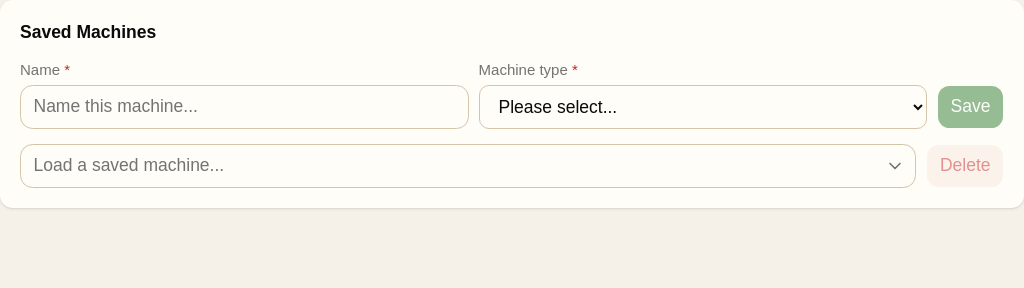
SaveLoadToolbar - delete loads first remaining or resets › shows loaded toast with remaining machine name after delete
Select Combine (index 1), then delete it
Click the text "Load a saved machine...": {"x": 129, "y": 166} [34,156,224,176]
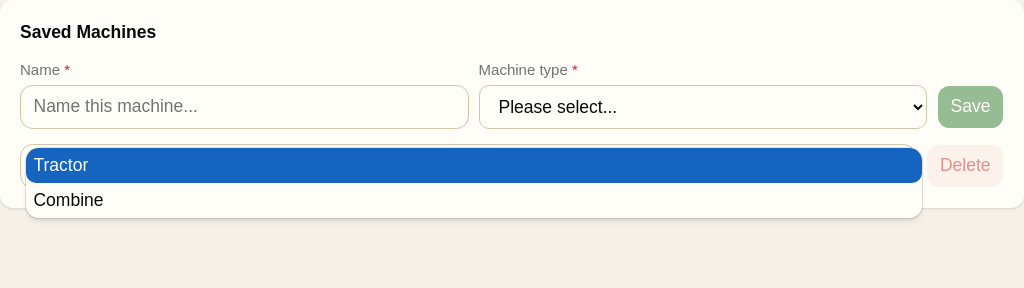
Click the option "Combine": {"x": 68, "y": 200} [34,190,104,210]
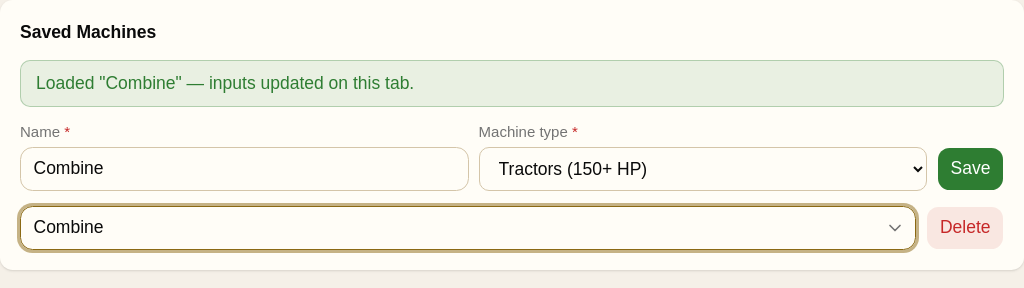
Click the button "Delete": {"x": 965, "y": 228} [926,206,1004,250]
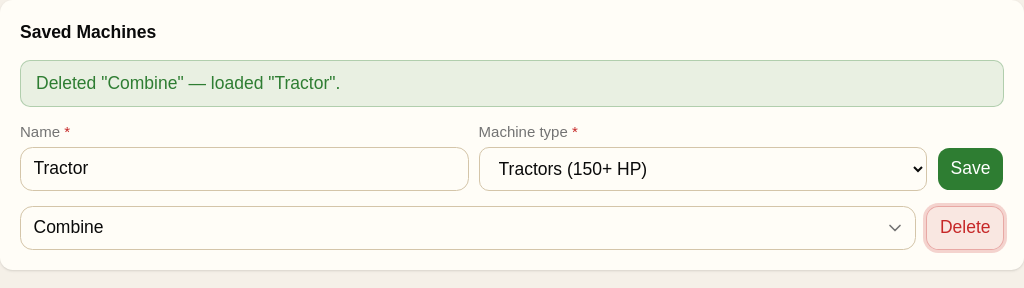
Check: the text "Deleted \"Combine\" — loaded \"Tractor\"." is shown, box [20,60,1004,107]
